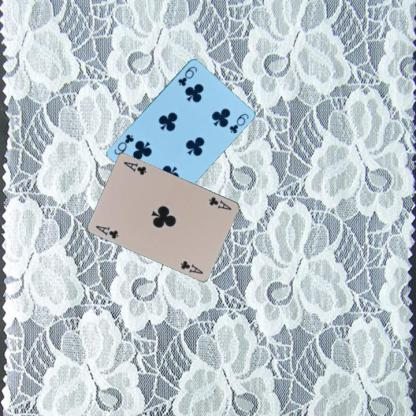6c: (175, 64, 199, 87)
Ac: (93, 222, 120, 240), (206, 194, 233, 211)
